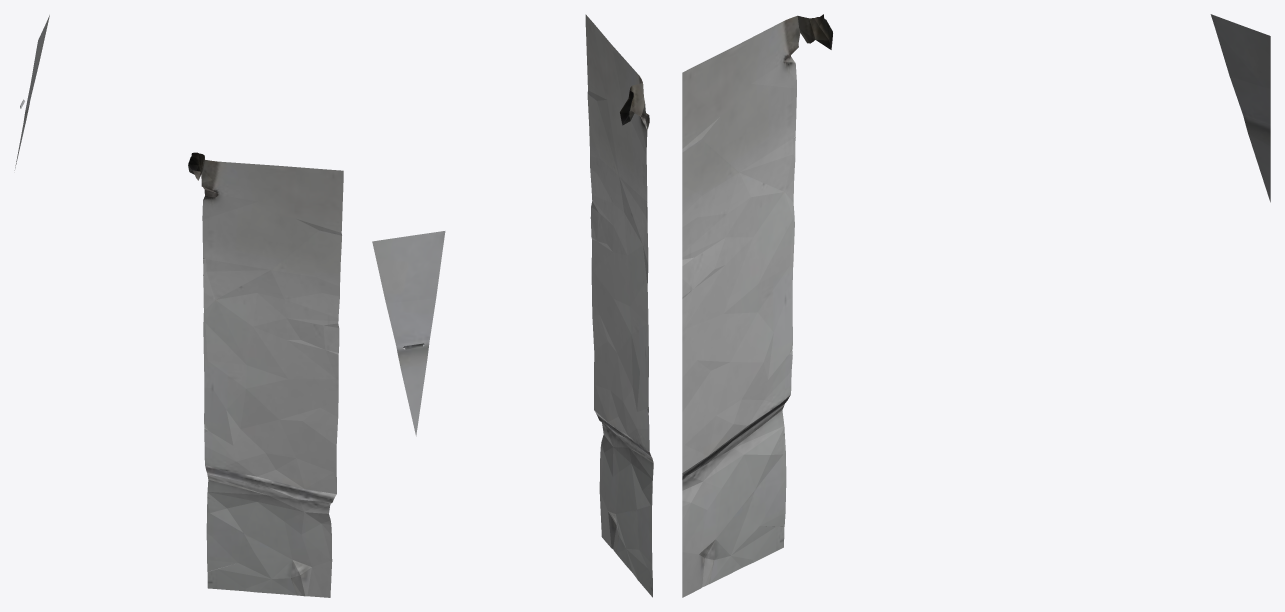
The picture shows the model from 3 angles, left to right: view 1: azimuth 30°, elevation 25°; view 2: azimuth 150°, elevation 25°; view 3: azimuth 270°, elevation 25°; orthographic projection. The views are drawn at different scales.
Bounding box in the file's own units: 1.58 × 6.7 × 6.7.
1 material, 1 textured.
